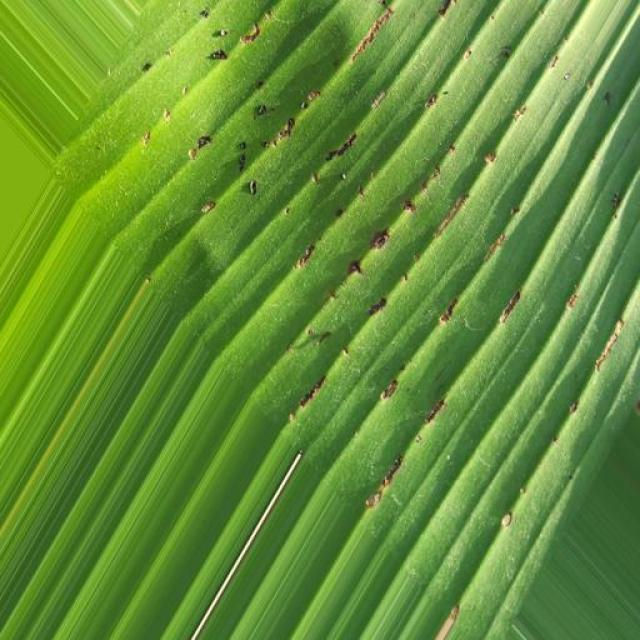Black_rot: (125, 1, 609, 640)
